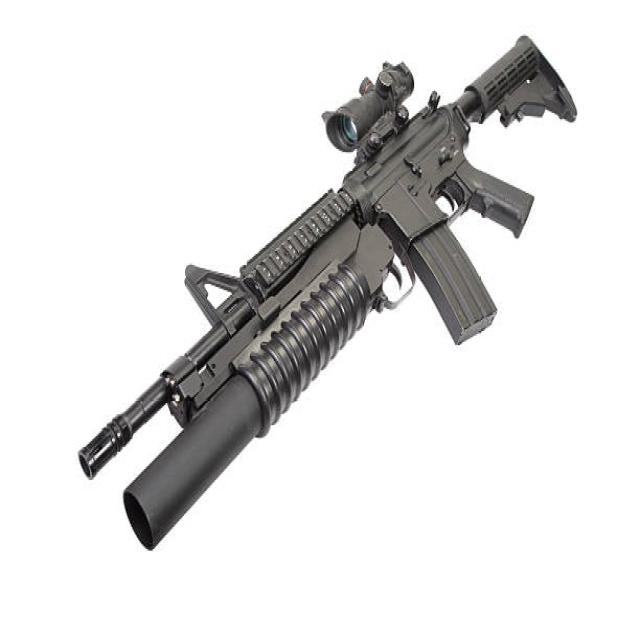rifle: (71, 31, 581, 572)
